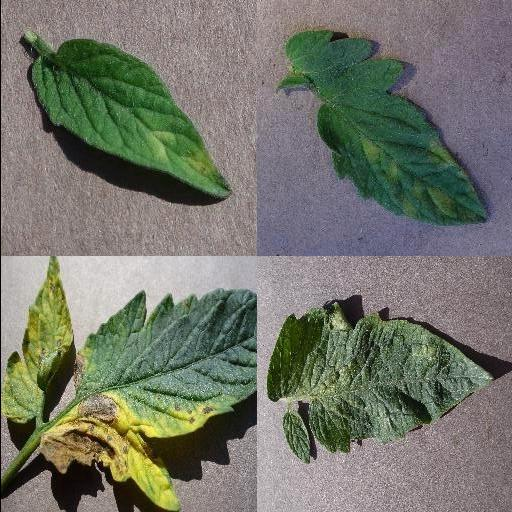Early Blight: (39, 286, 255, 512)
Leaf Mold: (282, 30, 490, 227), (29, 39, 231, 201)
Spider Mites: (266, 303, 494, 463)
